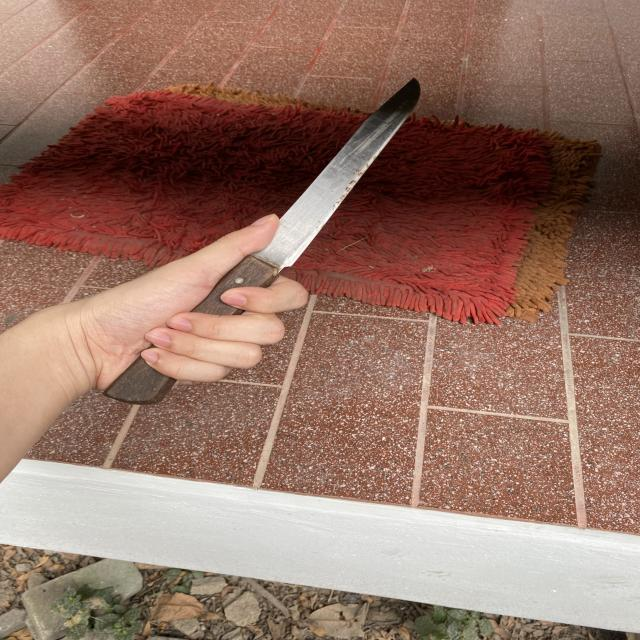faca: (107, 67, 434, 442)
